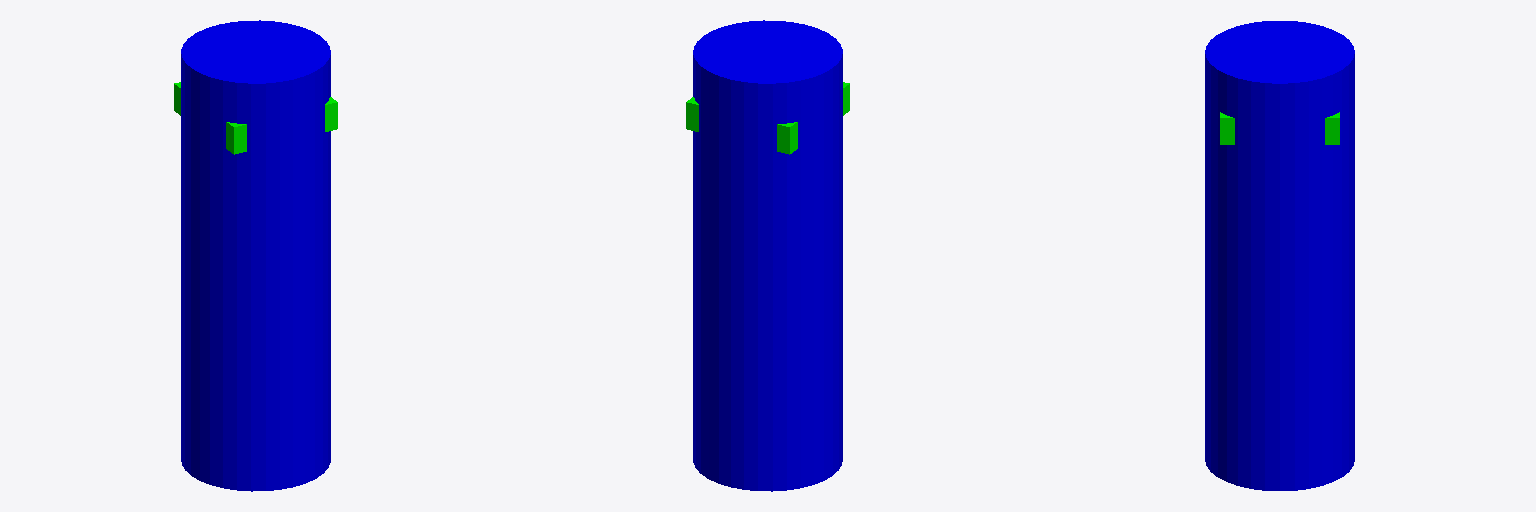
The robot description file, URDF, robot "linear_actuator":
<?xml version="1.0"?>
<robot name="linear_actuator">
  
  <!-- Base Link - The cylinder housing -->
  <link name="base_link">
    <visual>
      <origin xyz="0 0 0" rpy="0 0 0"/>
      <geometry>
        <cylinder radius="0.05" length="0.3"/>
      </geometry>
      <material name="blue">
        <color rgba="0.0 0.0 1.0 1.0"/>
      </material>
    </visual>
    <collision>
      <origin xyz="0 0 0" rpy="0 0 0"/>
      <geometry>
        <cylinder radius="0.05" length="0.3"/>
      </geometry>
    </collision>
    <inertial>
      <origin xyz="0 0 0" rpy="0 0 0"/>
      <mass value="2.0"/>
      <inertia ixx="0.0157" ixy="0" ixz="0" iyy="0.0157" iyz="0" izz="0.0025"/>
    </inertial>
  </link>

  <!-- Piston Link - The moving part -->
  <link name="piston_link">
    <visual>
      <origin xyz="0 0 0" rpy="0 0 0"/>
      <geometry>
        <cylinder radius="0.04" length="0.2"/>
      </geometry>
      <material name="red">
        <color rgba="1.0 0.0 0.0 1.0"/>
      </material>
    </visual>
    <collision>
      <origin xyz="0 0 0" rpy="0 0 0"/>
      <geometry>
        <cylinder radius="0.04" length="0.2"/>
      </geometry>
    </collision>
    <inertial>
      <origin xyz="0 0 0" rpy="0 0 0"/>
      <mass value="0.5"/>
      <inertia ixx="0.0021" ixy="0" ixz="0" iyy="0.0021" iyz="0" izz="0.0004"/>
    </inertial>
  </link>

  <!-- Prismatic Joint - Enables linear motion -->
  <joint name="linear_joint" type="prismatic">
    <parent link="base_link"/>
    <child link="piston_link"/>
    <origin xyz="0 0 0" rpy="0 0 0"/>
    <axis xyz="0 0 1"/>
    <limit lower="-0.1" upper="0.1" effort="100" velocity="1.0"/>
    <dynamics damping="0.1" friction="0.01"/>
  </joint>

  <!-- End Effector Link - What the actuator moves -->
  <link name="end_effector">
    <visual>
      <origin xyz="0 0 0" rpy="0 0 0"/>
      <geometry>
        <box size="0.08 0.08 0.02"/>
      </geometry>
      <material name="green">
        <color rgba="0.0 1.0 0.0 1.0"/>
      </material>
    </visual>
    <collision>
      <origin xyz="0 0 0" rpy="0 0 0"/>
      <geometry>
        <box size="0.08 0.08 0.02"/>
      </geometry>
    </collision>
    <inertial>
      <origin xyz="0 0 0" rpy="0 0 0"/>
      <mass value="0.1"/>
      <inertia ixx="0.0001" ixy="0" ixz="0" iyy="0.0001" iyz="0" izz="0.0001"/>
    </inertial>
  </link>

  <!-- Fixed Joint - Connects end effector to piston -->
  <joint name="piston_to_effector" type="fixed">
    <parent link="piston_link"/>
    <child link="end_effector"/>
    <origin xyz="0 0 0.11" rpy="0 0 0"/>
  </joint>

</robot>

--- Render facts (derived) ---
Views: 3 orthographic renders of the robot side by side, from view 1: azimuth 30°, elevation 25°; view 2: azimuth 150°, elevation 25°; view 3: azimuth 270°, elevation 25°.
Model linear_actuator with 3 links and 2 joints (1 prismatic, 1 fixed), rooted at base_link, posed every joint at zero.
Visible links, largest first — view 1: base_link, end_effector; view 2: base_link, end_effector; view 3: base_link, end_effector.
Boxes of the visible links, x1,y1,x2,y2 form: base_link: (181,20,330,491); end_effector: (174,82,337,154); base_link: (693,20,842,491); end_effector: (686,82,849,154); base_link: (1205,21,1354,490); end_effector: (1220,112,1339,144).
Size in the robot's own frame: 0.1 by 0.1 by 0.3 metres.
Geometry: primitives only (box / cylinder / sphere), no mesh files.